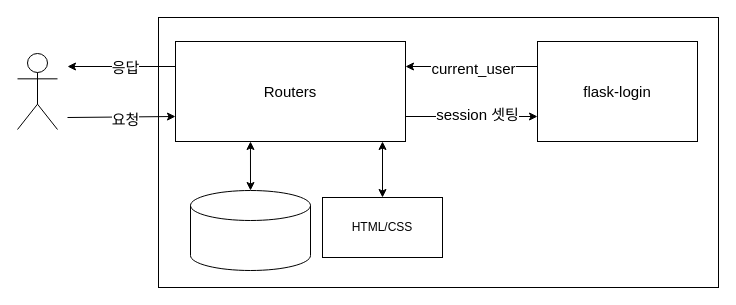
Image size: 736x305. Some labels were removed from this diagram. Here are the shapes that lost their labels. From the top down, the centre of each, then its label:
At point 37,91: "User".
At point 250,230: "MongoDB (db이름: intranet)".
